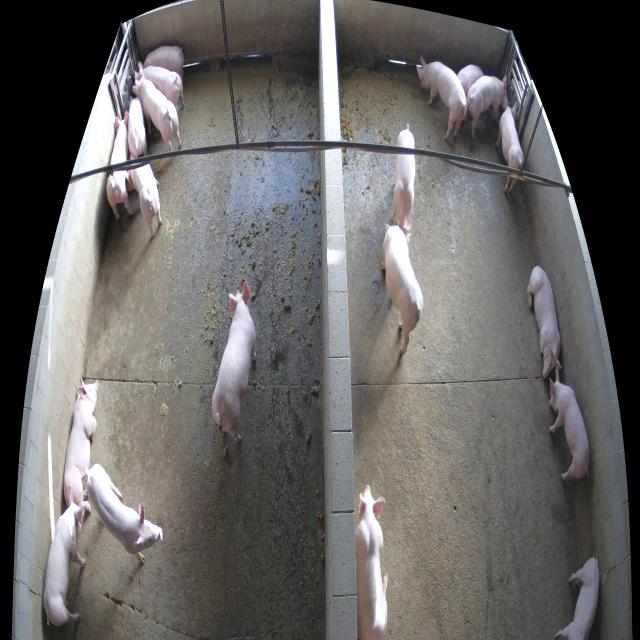pig: (86, 463, 162, 564), (212, 282, 256, 443), (381, 223, 423, 353), (44, 504, 86, 626), (355, 485, 388, 640), (64, 377, 99, 513), (549, 366, 590, 480), (415, 55, 466, 140), (133, 66, 182, 151), (554, 553, 600, 640), (528, 265, 562, 378), (107, 110, 134, 220), (134, 61, 184, 117), (496, 94, 524, 193), (125, 164, 162, 237), (464, 75, 506, 139), (392, 129, 415, 234), (144, 45, 184, 85), (128, 96, 148, 160), (457, 65, 484, 97)
